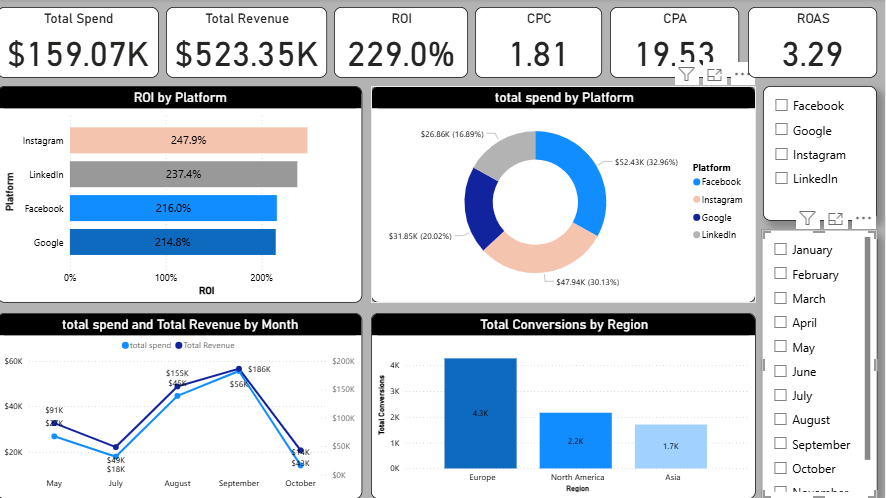

Layout of this report page (visuals, bound fields, positions):
{"tool":"powerbi","page":{"name":"Page 1","canvas":[1280,720],"ordinal":0},"visuals":[{"type":"card","title":"Total Spend","fields":{"Values":["_measures.total spend"]},"box":[0,11.5,233.3,102.2],"z":0},{"type":"card","title":"Total Revenue","fields":{"Values":["_measures.Total Revenue"]},"box":[243.4,11.5,231.8,102.2],"z":1000},{"type":"card","title":"ROI","fields":{"Values":["_measures.ROI"]},"box":[485.3,11.5,193,102.2],"z":2000},{"type":"card","title":"CPC","fields":{"Values":["_measures.CPC"]},"box":[688.3,11.5,182.9,102.2],"z":3000},{"type":"card","title":"CPA","fields":{"Values":["_measures.CPA"]},"box":[882.7,11.5,185.8,102.2],"z":4000},{"type":"clusteredBarChart","fields":{"Category":["campaign info.Platform"],"Y":["_measures.ROI"]},"box":[0,126,525.8,312.4],"z":5000},{"type":"donutChart","fields":{"Category":["campaign info.Platform"],"Y":["_measures.total spend"]},"box":[539.2,126,554.3,312.4],"z":6000},{"type":"lineChart","fields":{"Category":["campaign info.StartDate.Variation.Date Hierarchy.Month"],"Y":["_measures.total spend"],"Y2":["_measures.Total Revenue"]},"box":[0,452.2,525.6,267.8],"z":7000},{"type":"clusteredColumnChart","fields":{"Category":["campaign info.Region"],"Y":["_measures.Total Conversions"]},"box":[538.6,452.2,554.4,267.8],"z":8000},{"type":"slicer","fields":{"Values":["campaign info.Platform"]},"box":[1103,125.3,164.2,194.4],"z":9000},{"type":"slicer","fields":{"Values":["campaign performance.Date.Variation.Date Hierarchy.Month"]},"box":[1101.6,332.6,165.6,387.4],"z":10000},{"type":"card","title":"ROAS","fields":{"Values":["_measures.ROAS"]},"box":[1081.4,11.5,185.8,102.2],"z":10001}]}

Visuals, with their boxes in screenshot pixels (x1, y1, x2, y2), scaled from the page's 1280x720 canvas onto the 886x498 screenshot:
"Total Spend" card: Rect(0, 8, 161, 79)
"Total Revenue" card: Rect(168, 8, 329, 79)
"ROI" card: Rect(336, 8, 470, 79)
"CPC" card: Rect(476, 8, 603, 79)
"CPA" card: Rect(611, 8, 740, 79)
clusteredBarChart - campaign info.Platform x _measures.ROI: Rect(0, 87, 364, 303)
donutChart - campaign info.Platform x _measures.total spend: Rect(373, 87, 757, 303)
lineChart - campaign info.StartDate.Variation.Date Hierarchy.Month x _measures.total spend: Rect(0, 313, 364, 497)
clusteredColumnChart - campaign info.Region x _measures.Total Conversions: Rect(373, 313, 757, 497)
slicer - campaign info.Platform: Rect(763, 87, 877, 221)
slicer - campaign performance.Date.Variation.Date Hierarchy.Month: Rect(763, 230, 877, 497)
"ROAS" card: Rect(749, 8, 877, 79)
